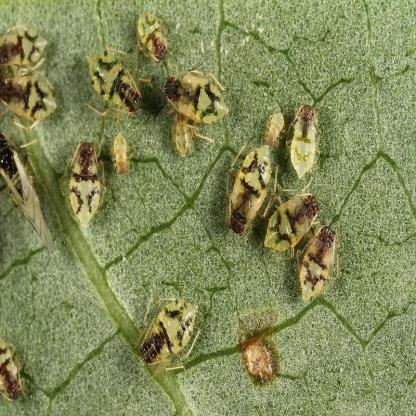aphid: (1, 125, 55, 257), (132, 287, 204, 385), (85, 43, 147, 122), (266, 176, 320, 265), (163, 65, 233, 128), (228, 137, 274, 231), (298, 218, 339, 311), (4, 62, 58, 129), (69, 138, 108, 229), (286, 94, 324, 184), (0, 18, 48, 73), (134, 4, 174, 67), (0, 334, 27, 405), (169, 112, 202, 162), (109, 129, 132, 178), (265, 107, 290, 151)
